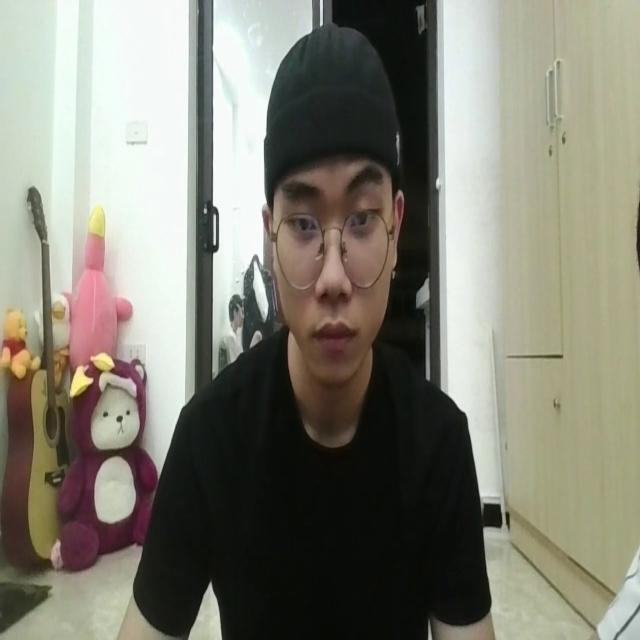student: (121, 26, 496, 640)
